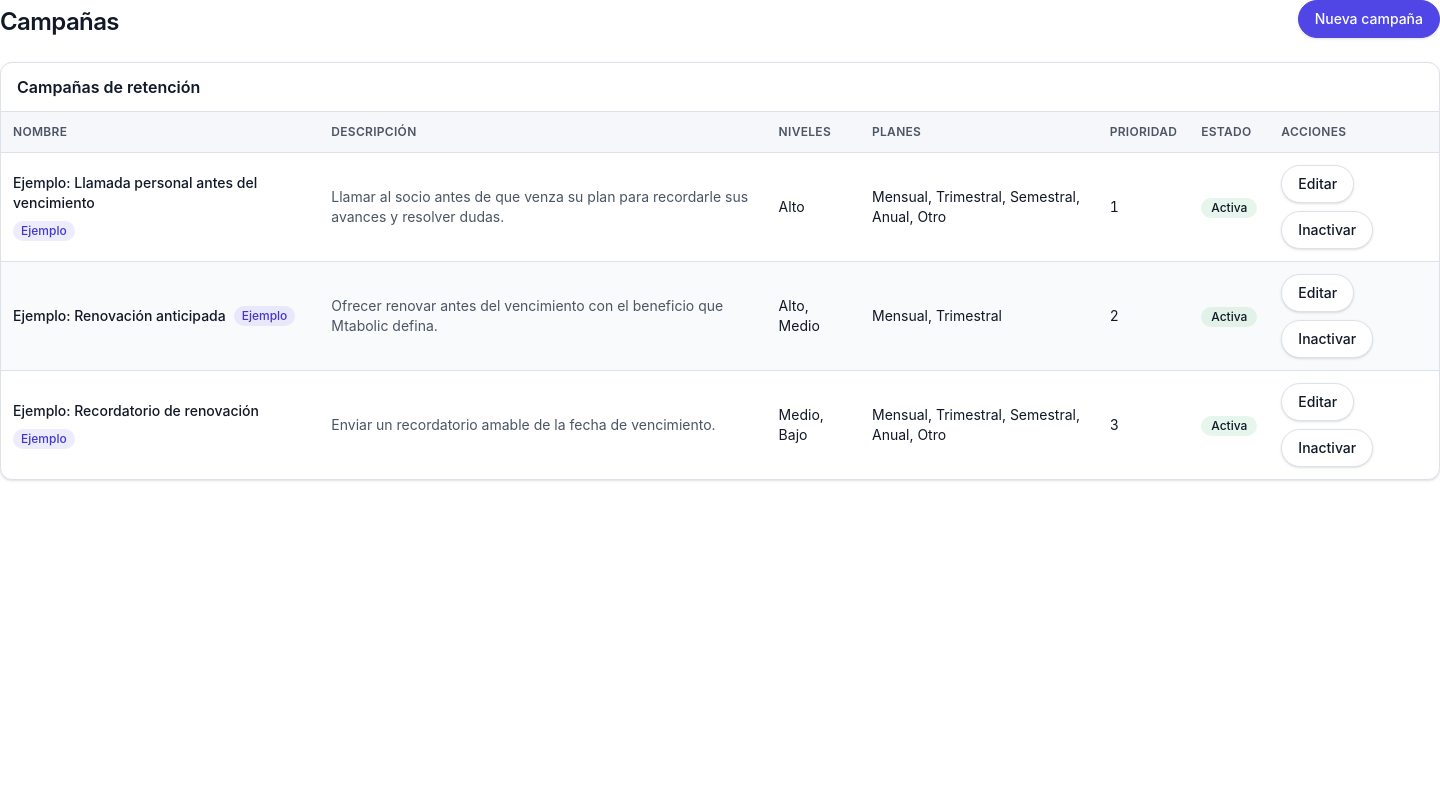
Scenario: CampaniasPage › "Editar" precarga los datos y guarda con PUT
Click the button "Editar" in the row of "Ejemplo: Renovación anticipada".
click(1318, 293)  # box [1281,274,1354,312]
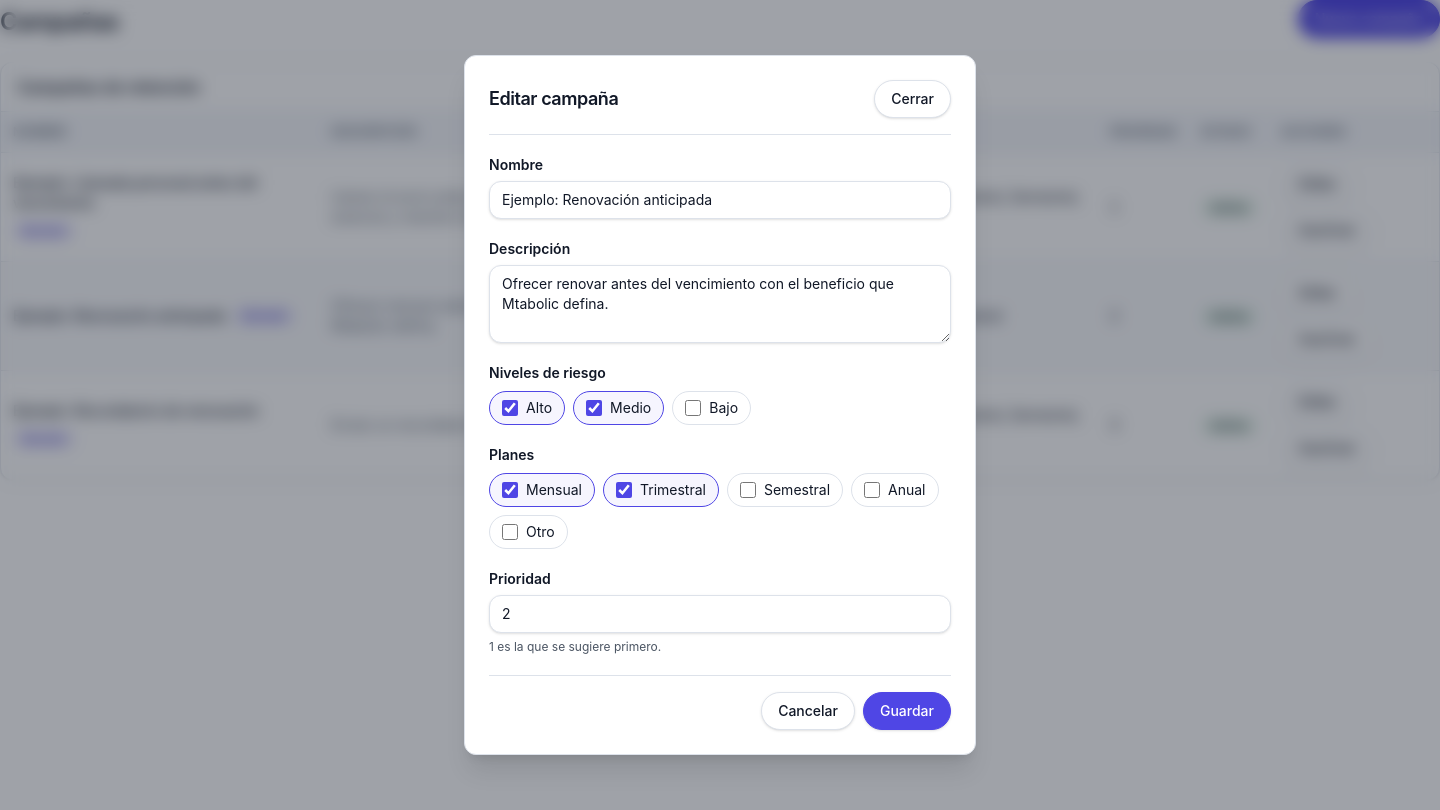
Expected: the field labelled "Nombre" holds "Ejemplo: Renovación anticipada"
Expected: the number field labelled "Prioridad" holds "2", [489,595,951,633]
Expected: the checkbox labelled "Alto" is checked, [502,400,518,416]
Replace the text in the field labelled "Nombre" with "Renovación con beneficio" at (720, 200), box [489,181,951,219]
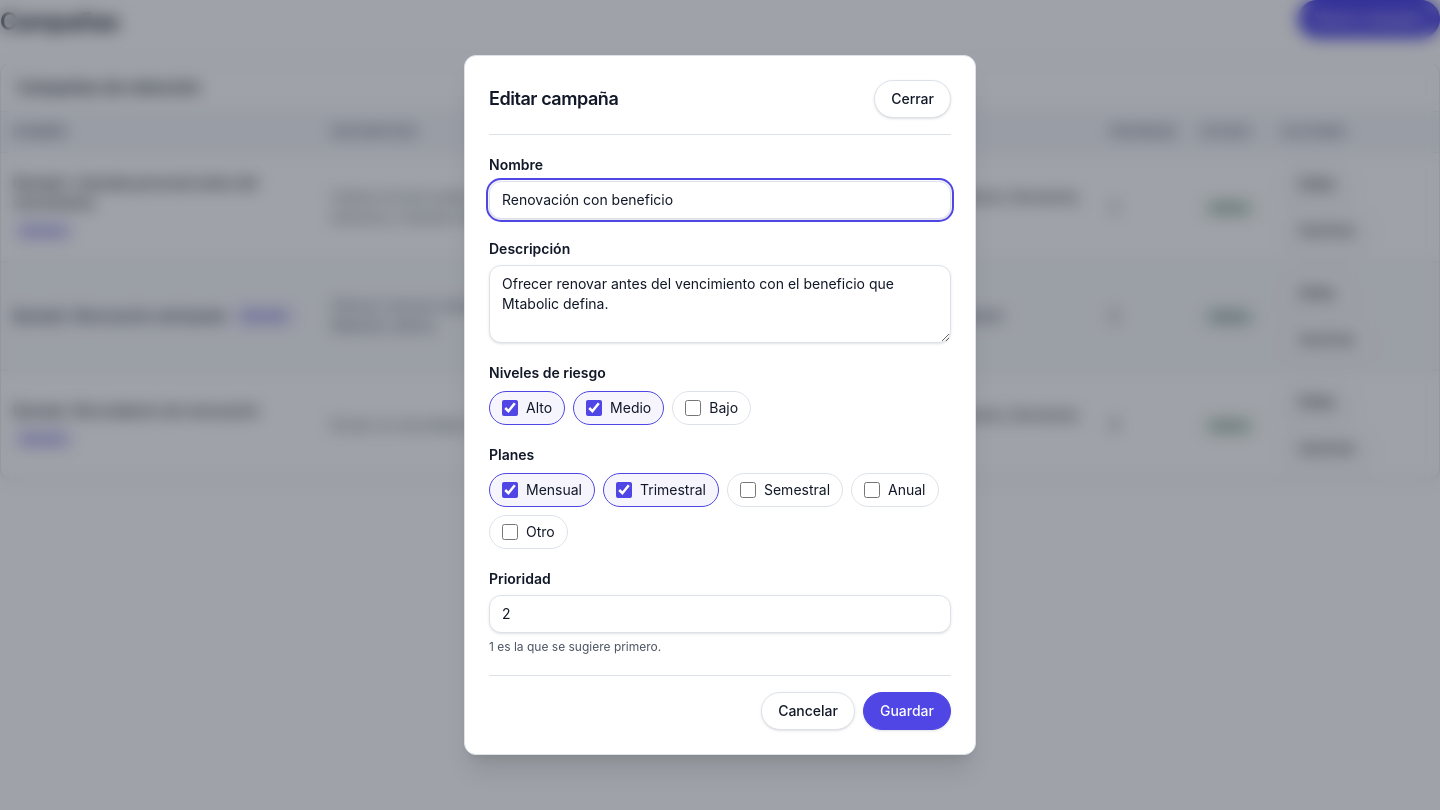
Click the button "Guardar".
click(907, 711)  # box [863,692,951,730]
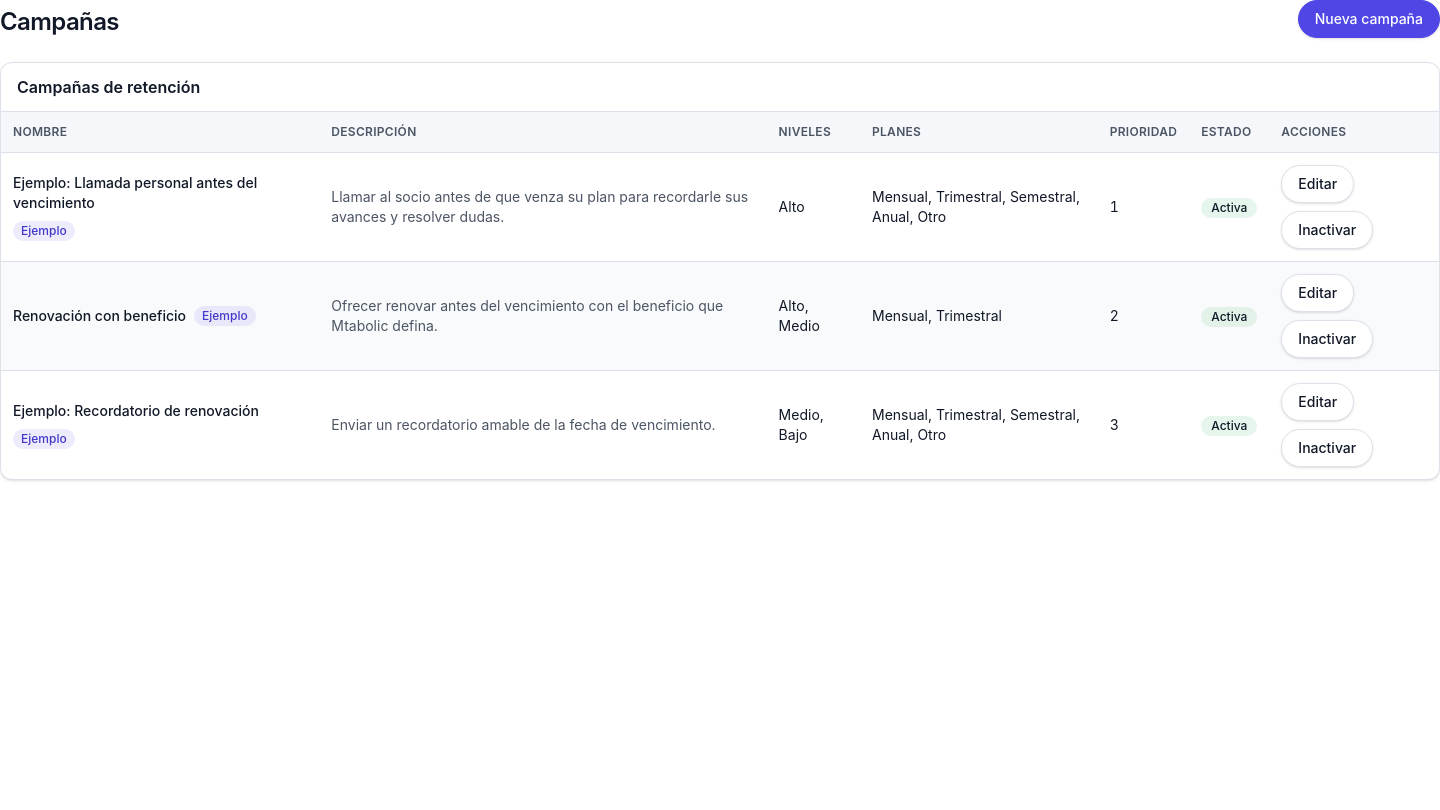
Expected: the dialog is gone
Expected: the text "Renovación con beneficio" is shown, [13,307,186,324]
